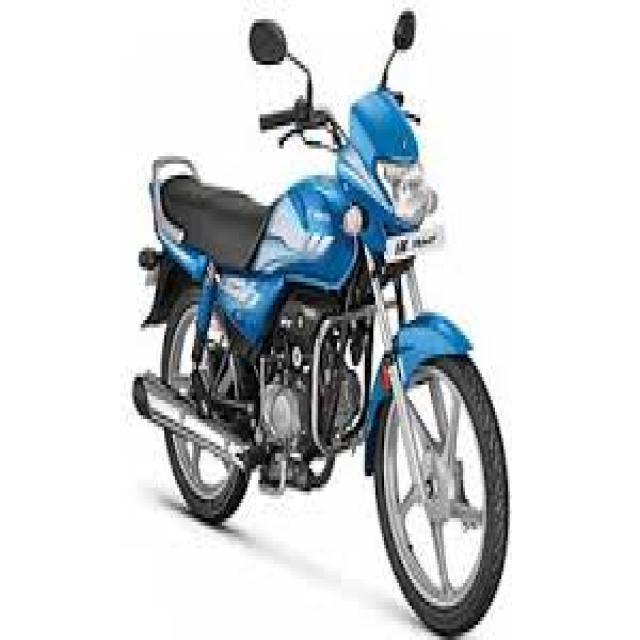Bike: (125, 16, 510, 622)
